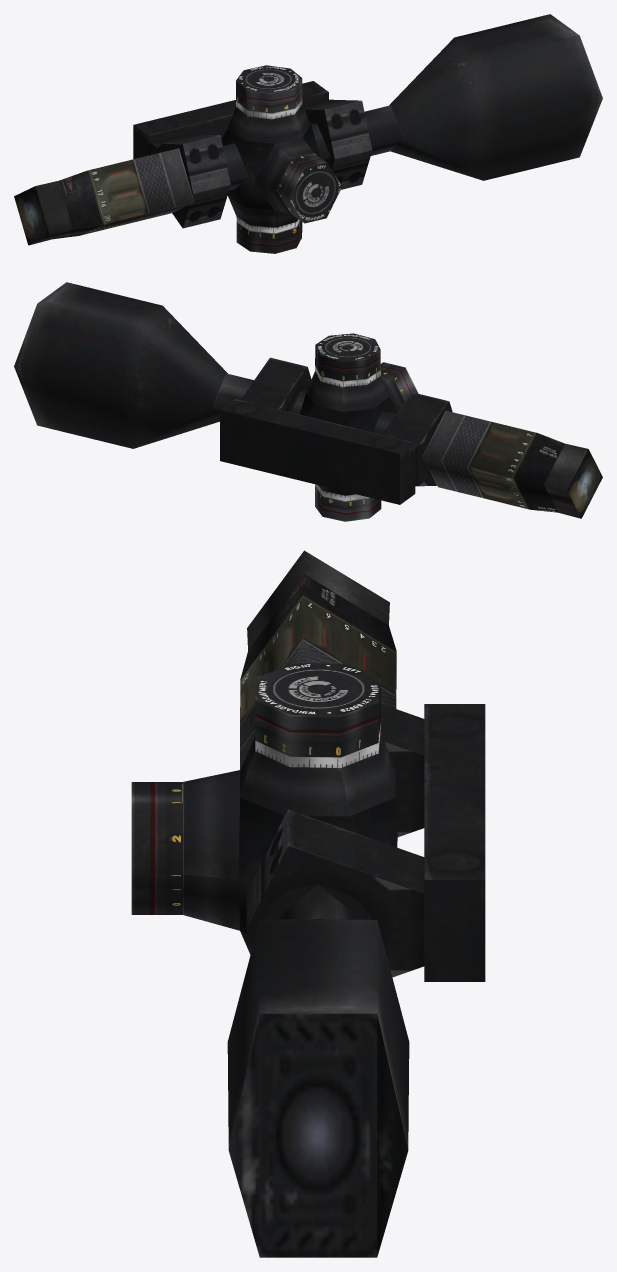
File: t6_wpn_sniper_xpr50_scope_world_LOD1.obj
The picture shows the model from 3 angles, top to bottom: view 1: azimuth 30°, elevation 25°; view 2: azimuth 150°, elevation 25°; view 3: azimuth 270°, elevation 25°; orthographic projection. The views are drawn at different scales.
Visible parts, largest first — view 1: mtl_t6_wpn_sniper_xpr50_scope, mtl_t6_wpn_sniper_xpr50_scope_camo2; view 2: mtl_t6_wpn_sniper_xpr50_scope, mtl_t6_wpn_sniper_xpr50_scope_camo2; view 3: mtl_t6_wpn_sniper_xpr50_scope, mtl_t6_wpn_sniper_xpr50_scope_camo2.
Part boxes in pixels (x1,y1,x2,y2): mtl_t6_wpn_sniper_xpr50_scope: (14, 14, 602, 245); mtl_t6_wpn_sniper_xpr50_scope_camo2: (29, 65, 342, 253); mtl_t6_wpn_sniper_xpr50_scope: (14, 282, 602, 518); mtl_t6_wpn_sniper_xpr50_scope_camo2: (306, 333, 588, 521); mtl_t6_wpn_sniper_xpr50_scope: (227, 574, 485, 1257); mtl_t6_wpn_sniper_xpr50_scope_camo2: (131, 550, 396, 954).
Size of the model in its own units: 33.33 by 9.32 by 9.3.
